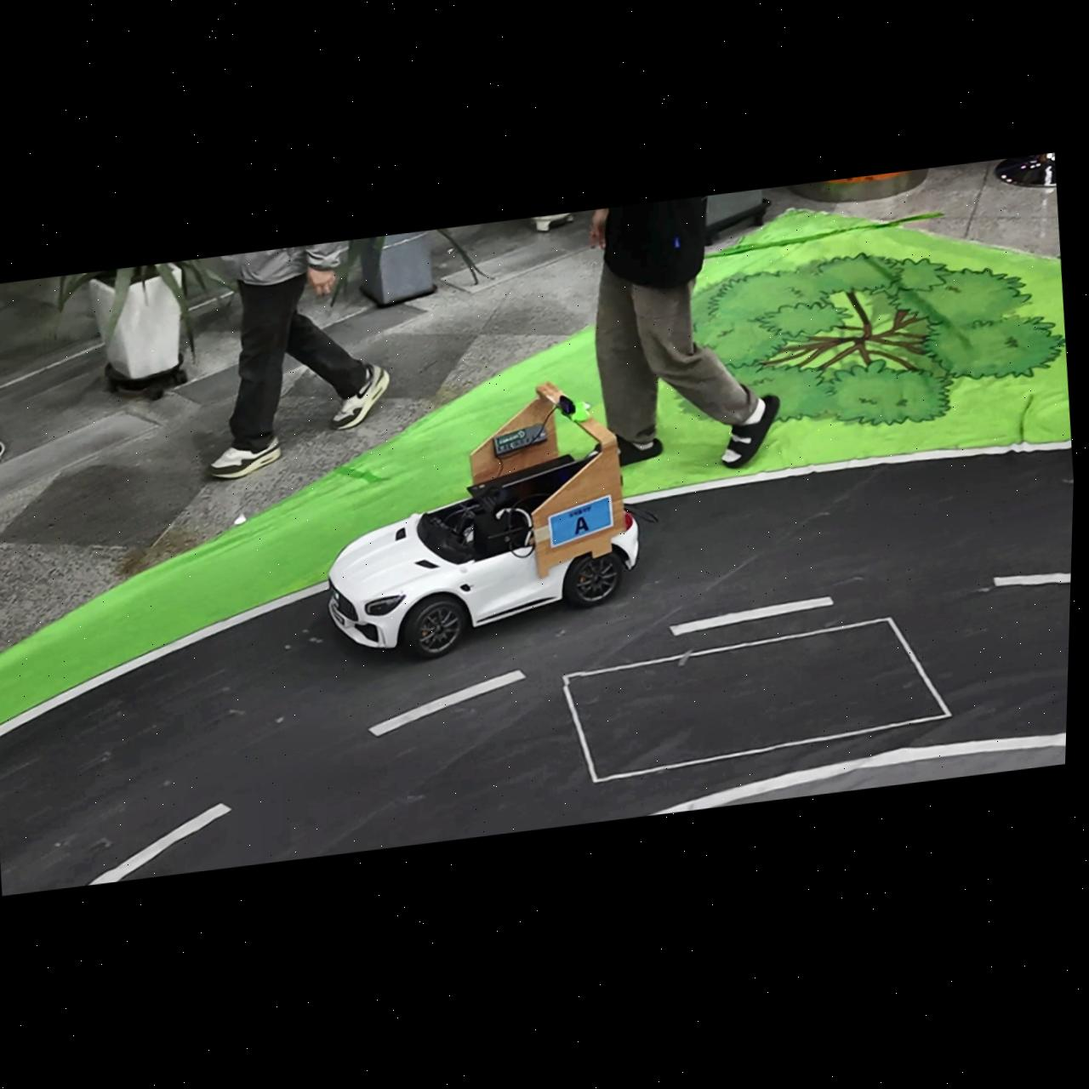broken_line: (88, 802, 233, 885), (368, 669, 527, 736), (668, 596, 834, 635), (994, 573, 1071, 586)
